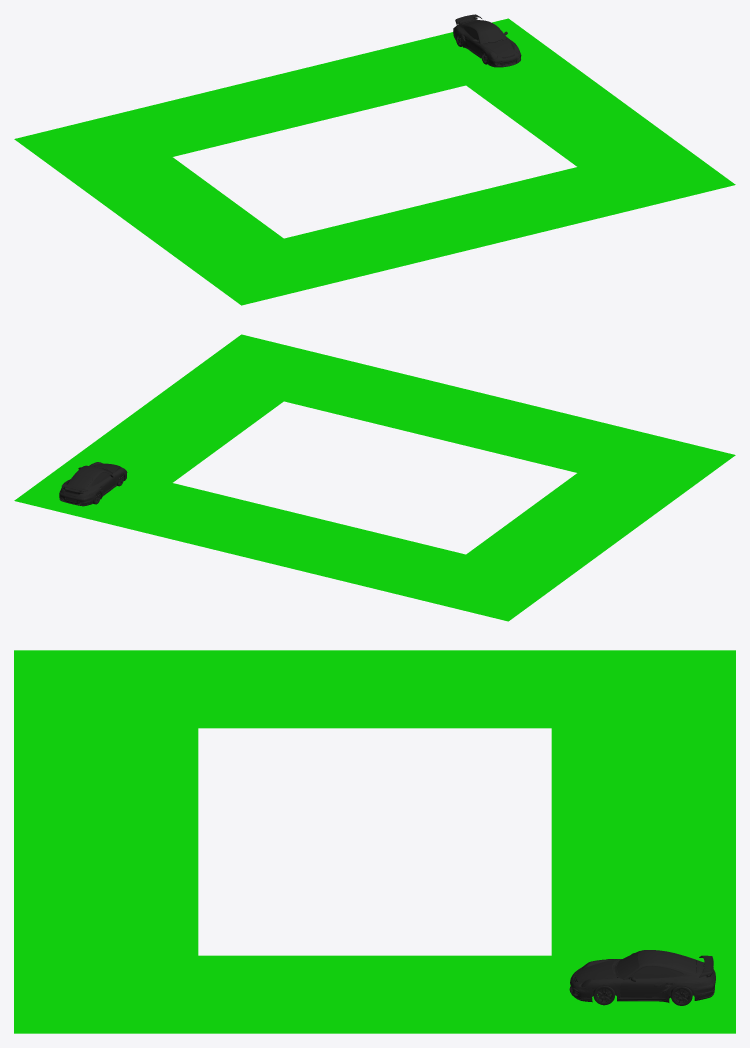
File: asset.glb
3 views of the same model, one above another, from view 1: azimuth 30°, elevation 25°; view 2: azimuth 150°, elevation 25°; view 3: azimuth 270°, elevation 25° (orthographic). The views are drawn at different scales.
Visible parts, largest first — view 1: Plane.002, Plane, Plane.001, Plane.003, Porsche_911_GT2.001; view 2: Plane.003, Plane, Plane.001, Plane.002, Porsche_911_GT2.001; view 3: Plane.001, Plane.002, Plane, Plane.003, Porsche_911_GT2.001.
Part boxes in pixels (x1=…): Plane.002: x1=183, y1=167, x2=634, y2=305; Plane: x1=408, y1=18, x2=735, y2=209; Plane.001: x1=14, y1=43, x2=465, y2=160; Plane.003: x1=14, y1=118, x2=340, y2=305; Porsche_911_GT2.001: x1=453, y1=14, x2=521, y2=67; Plane.003: x1=408, y1=430, x2=735, y2=620; Plane: x1=14, y1=334, x2=341, y2=525; Plane.001: x1=115, y1=483, x2=565, y2=621; Plane.002: x1=284, y1=359, x2=651, y2=477; Porsche_911_GT2.001: x1=59, y1=462, x2=127, y2=506; Plane.001: x1=551, y1=650, x2=735, y2=955; Plane.002: x1=14, y1=650, x2=198, y2=955; Plane: x1=14, y1=955, x2=735, y2=1033; Plane.003: x1=14, y1=650, x2=735, y2=728; Porsche_911_GT2.001: x1=569, y1=950, x2=715, y2=1005.
Size of the model in its own units: 27.61 by 1.3 by 21.99.
